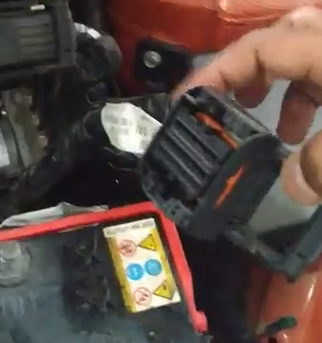connector: (124, 80, 322, 285)
